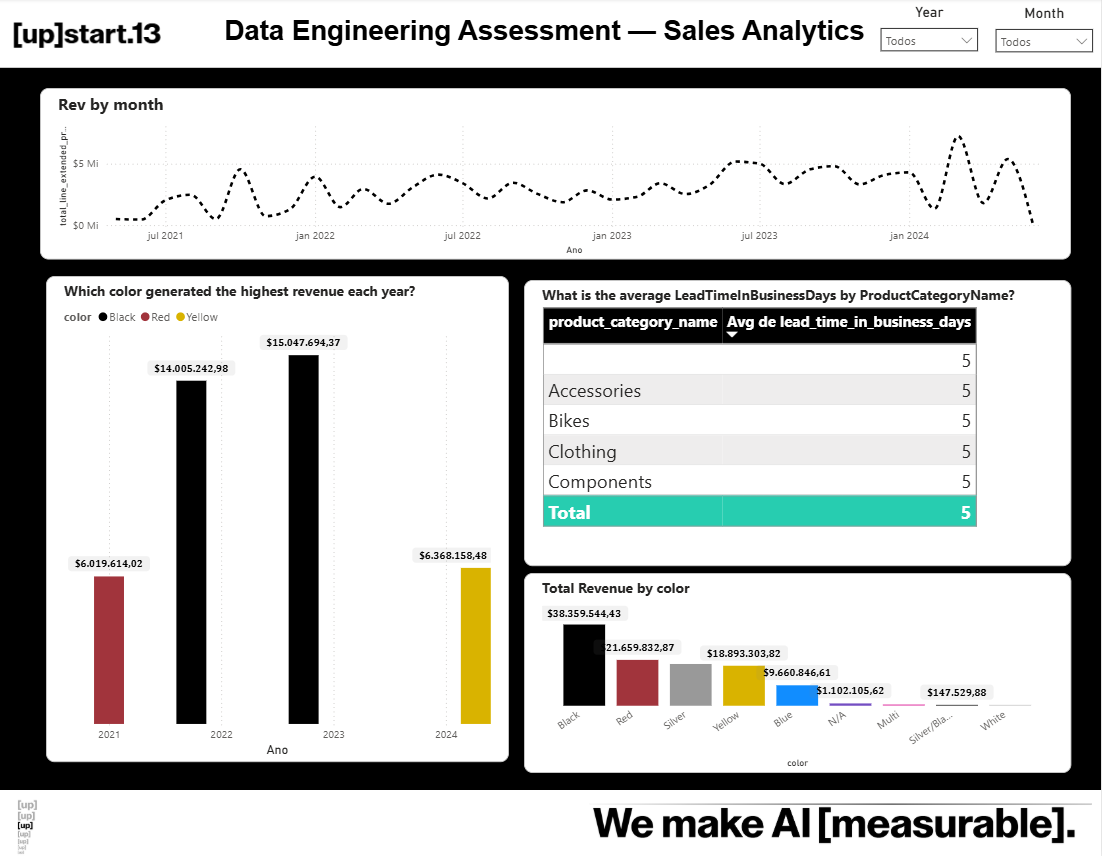

Layout of this report page (visuals, bound fields, positions):
{"tool":"powerbi","page":{"name":"Data Engineering Assessment — Sales Analytics","canvas":[1280,1000],"ordinal":0},"visuals":[{"type":"shape","box":[0,919,1280,81],"z":0},{"type":"shape","box":[0,0,1280.3,81],"z":1000},{"type":"clusteredColumnChart","title":"Which color generated the highest revenue each year?","fields":{"Category":["public publish_orders.order_date.Variation.Hierarquia de datas.Ano"],"Series":["public publish_product.color"],"Y":["public publish_orders.Top Revenue by Year"]},"box":[56,323,537,564],"z":2000},{"type":"tableEx","title":"What is the average LeadTimeInBusinessDays by ProductCategoryName?","fields":{"Values":["public publish_product.product_category_name","Median(public publish_orders.lead_time_in_business_days)"]},"box":[610,327,635,332],"z":3000},{"type":"slicer","title":"Month","fields":{"Values":["public publish_orders.order_date.Variation.Hierarquia de datas.Mês"]},"box":[1147,7,133,68],"z":4000},{"type":"image","box":[681,925,593,69],"z":5000},{"type":"image","box":[0,0,198,81],"z":6000},{"type":"lineChart","title":"Rev by month","fields":{"Category":["public publish_orders.order_date.Variation.Hierarquia de datas.Ano","public publish_orders.order_date.Variation.Hierarquia de datas.Mês"],"Y":["Sum(public publish_orders.total_line_extended_price)"]},"box":[49,104,1196,199],"z":8000},{"type":"slicer","title":"Year","fields":{"Values":["public publish_orders.order_date.Variation.Hierarquia de datas.Ano"]},"box":[1014,6,133,68],"z":9000},{"type":"image","box":[0,925,72,75],"z":10000},{"type":"textbox","box":[257,15,757,57],"z":10001},{"type":"clusteredColumnChart","title":"Total Revenue by color","fields":{"Y":["Sum(public publish_orders.total_line_extended_price)"],"Category":["public publish_product.color"]},"box":[610,667,635,232],"z":10002}]}

Visuals, with their boxes in screenshot pixels (x1, y1, x2, y2), scaled from the page's 1280x1000 canvas onto the 1102x856 screenshot:
shape: (left=0, top=787, right=1101, bottom=855)
shape: (left=0, top=0, right=1101, bottom=69)
"Which color generated the highest revenue each year?" clusteredColumnChart: (left=48, top=276, right=511, bottom=759)
"What is the average LeadTimeInBusinessDays by ProductCategoryName?" tableEx: (left=525, top=280, right=1072, bottom=564)
"Month" slicer: (left=987, top=6, right=1101, bottom=64)
image: (left=586, top=792, right=1097, bottom=851)
image: (left=0, top=0, right=170, bottom=69)
"Rev by month" lineChart: (left=42, top=89, right=1072, bottom=259)
"Year" slicer: (left=873, top=5, right=987, bottom=63)
image: (left=0, top=792, right=62, bottom=855)
textbox: (left=221, top=13, right=873, bottom=62)
"Total Revenue by color" clusteredColumnChart: (left=525, top=571, right=1072, bottom=770)
